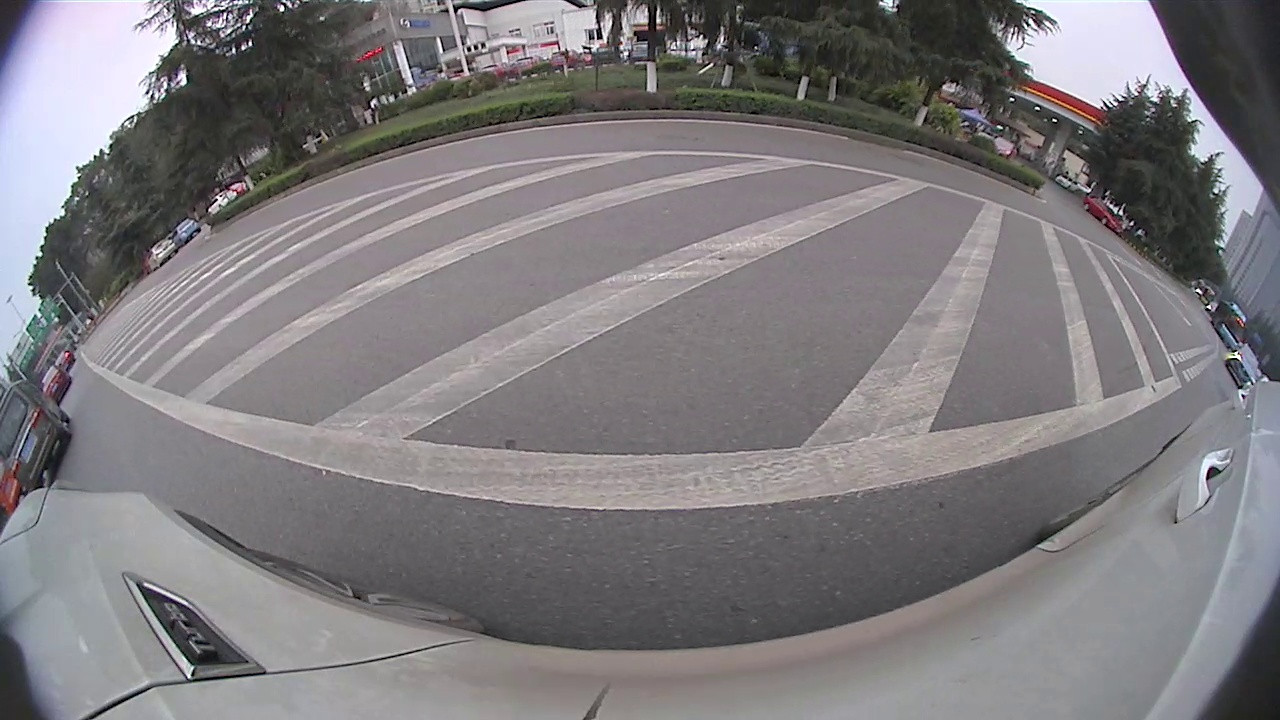bus: (1209, 295, 1248, 347)
car: (1, 380, 77, 491), (1225, 340, 1264, 391), (1082, 191, 1124, 237)
